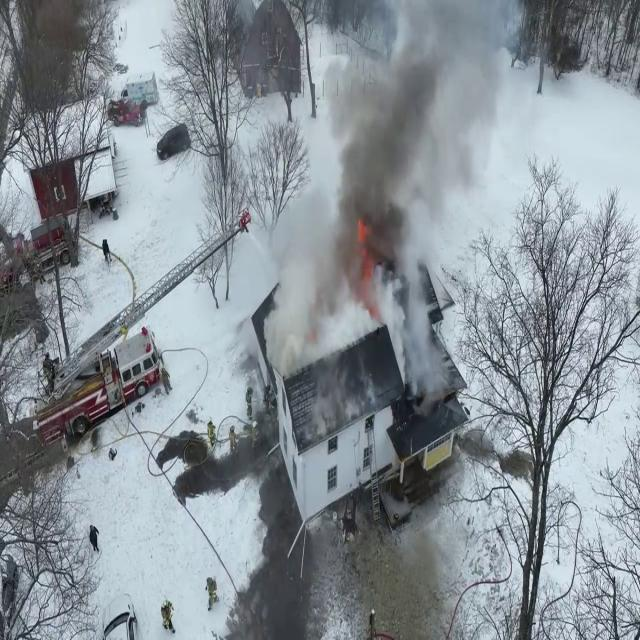Smoke: (262, 1, 464, 388)
